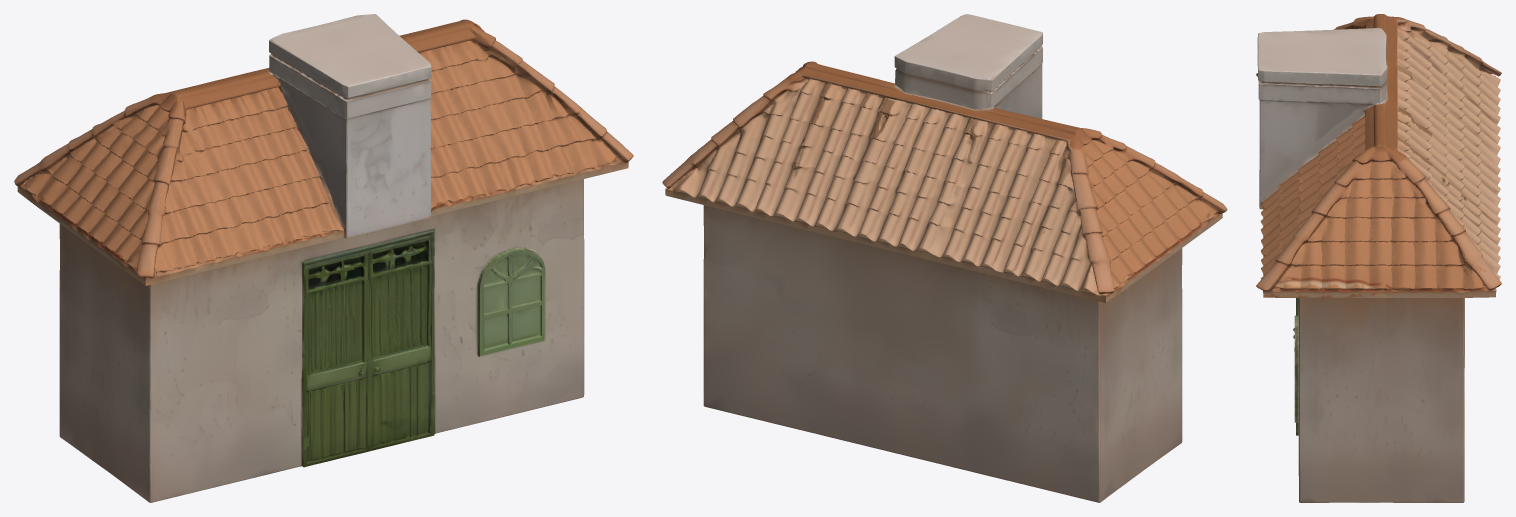
File: squid_game_house.glb
3 views of the same model, side by side, from view 1: azimuth 30°, elevation 25°; view 2: azimuth 150°, elevation 25°; view 3: azimuth 270°, elevation 25° (orthographic). The views are drawn at different scales.
Parts seen in each view (by area): view 1: Object_2, Object_3, Object_4; view 2: Object_2, Object_3; view 3: Object_2, Object_3.
Part boxes in pixels (<box>): Object_2: <box>145,14,633,502</box>; Object_3: <box>14,19,622,502</box>; Object_4: <box>39,111,219,502</box>; Object_2: <box>662,14,1105,501</box>; Object_3: <box>665,14,1227,502</box>; Object_2: <box>1256,19,1501,502</box>; Object_3: <box>1256,14,1501,345</box>.
Size of the model in its own units: 1.9 by 1.44 by 0.9003.
Materials: 1 (1 with a texture image).
